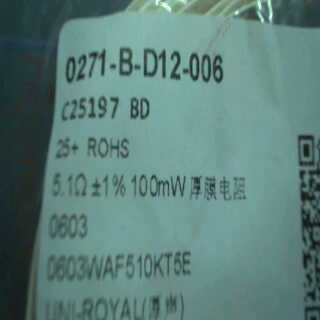5.1R: (50, 167, 88, 204)
